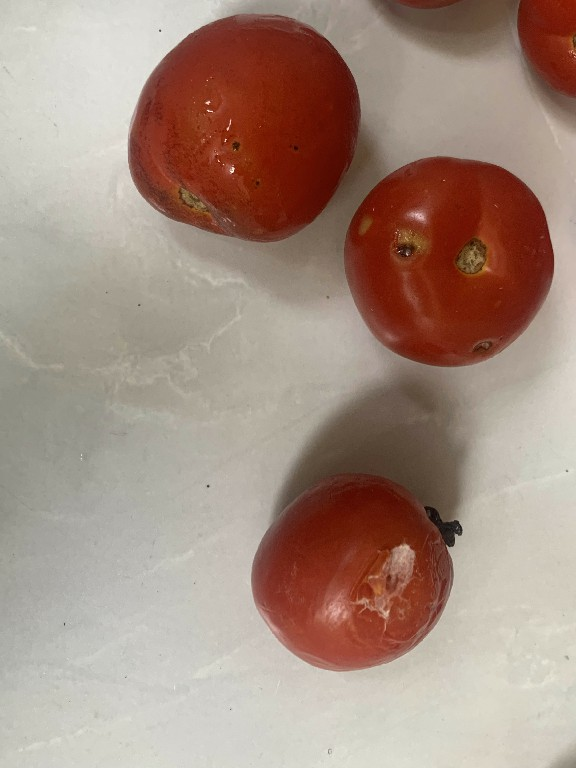NG: (113, 6, 364, 247), (342, 152, 556, 376), (243, 465, 467, 676)
